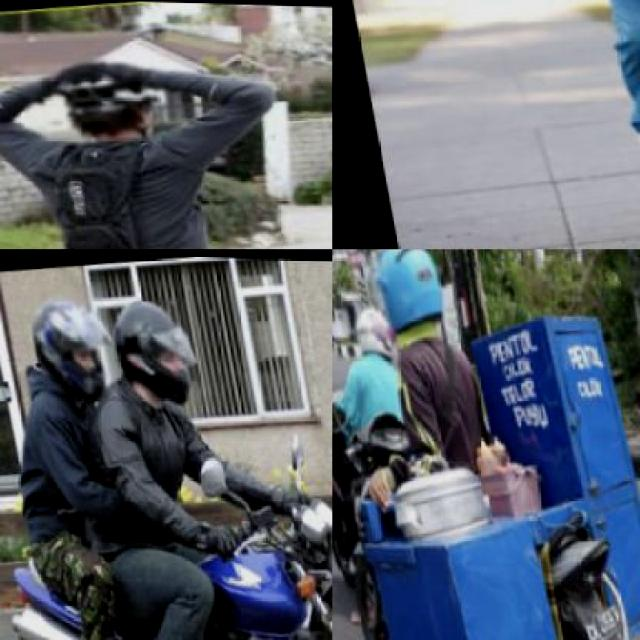With Helmet: (12, 45, 182, 152), (24, 282, 119, 402), (109, 294, 202, 409), (355, 249, 457, 346), (344, 300, 398, 372)
